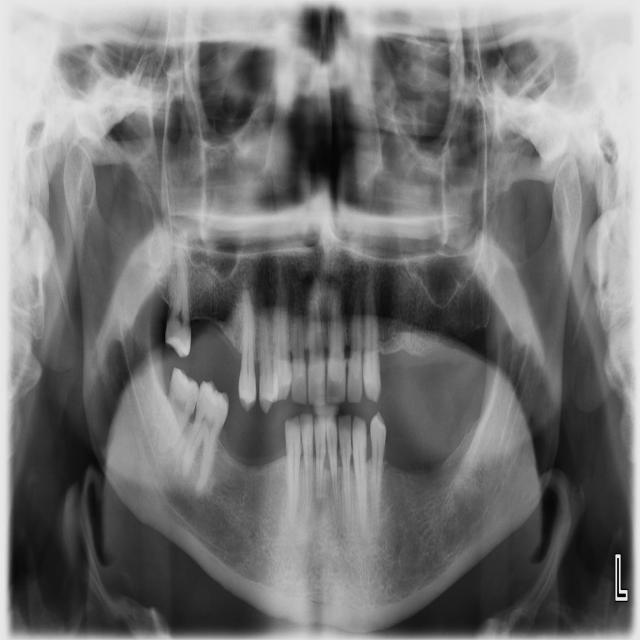mandibula: (63, 142, 584, 627)
